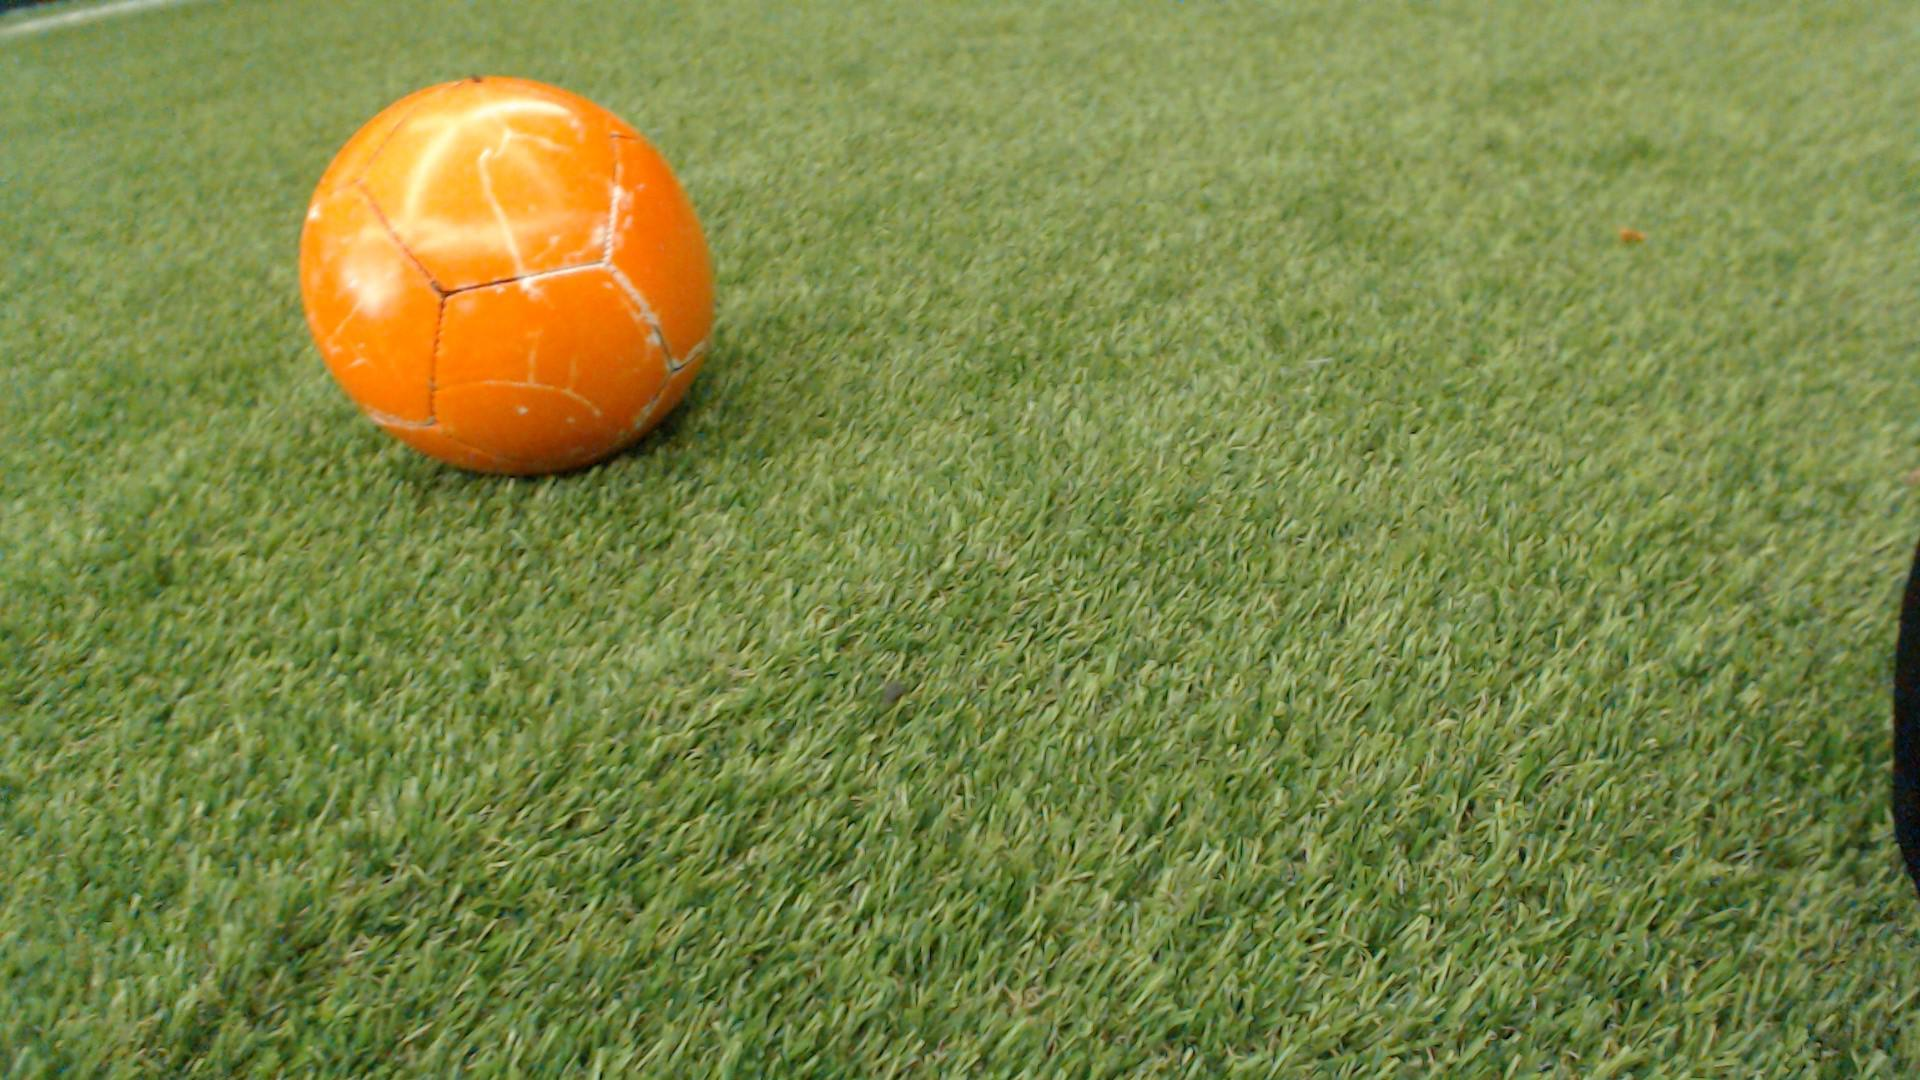bola: (276, 51, 757, 491)
